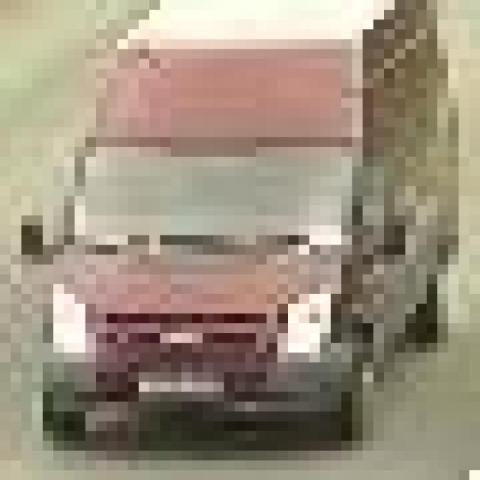van: (48, 0, 454, 451)
